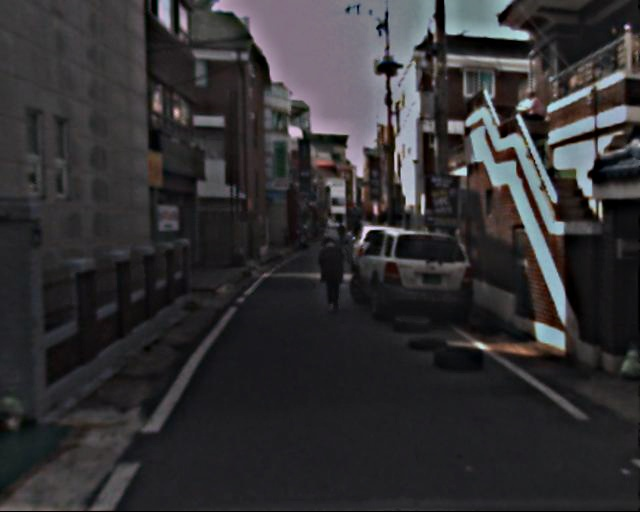person: (317, 238, 349, 315)
